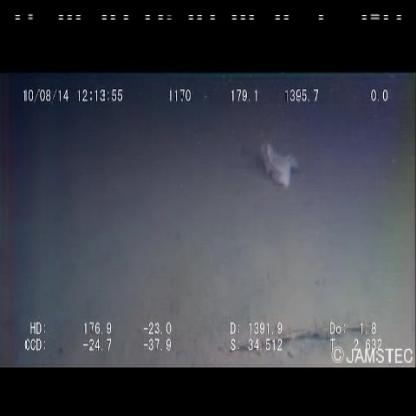Rác: (257, 136, 299, 192)
